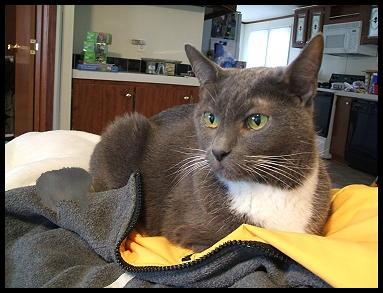tampered: (37, 168, 92, 219)
